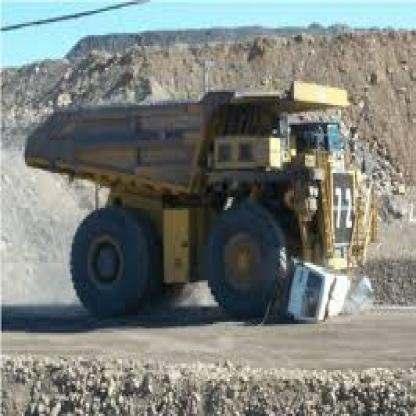dump_truck: (23, 77, 372, 324)
